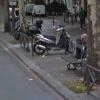Motorcycle: (28, 28, 78, 64)
